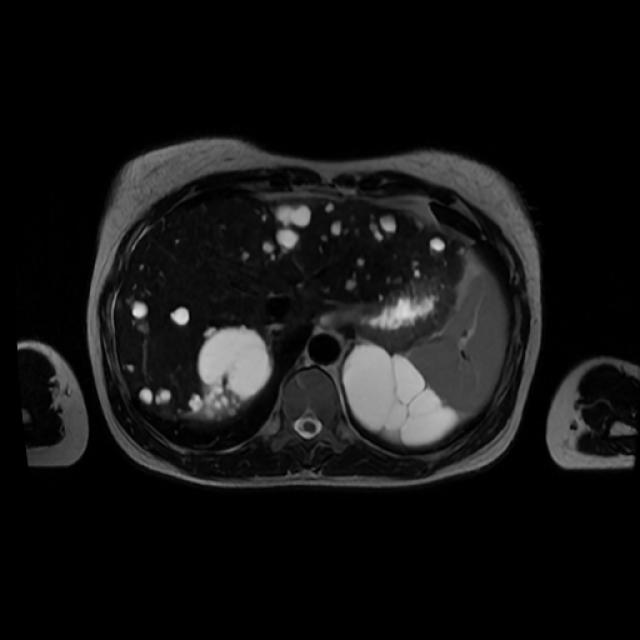sag: (197, 327, 270, 418)
sol: (342, 344, 455, 446)
